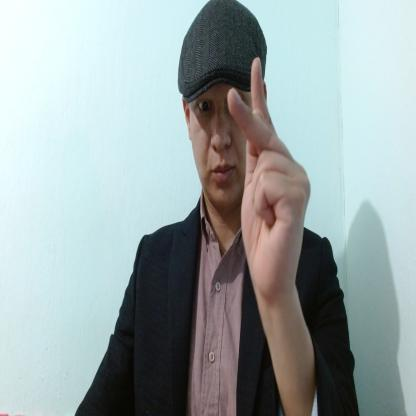P: (226, 55, 312, 293)
